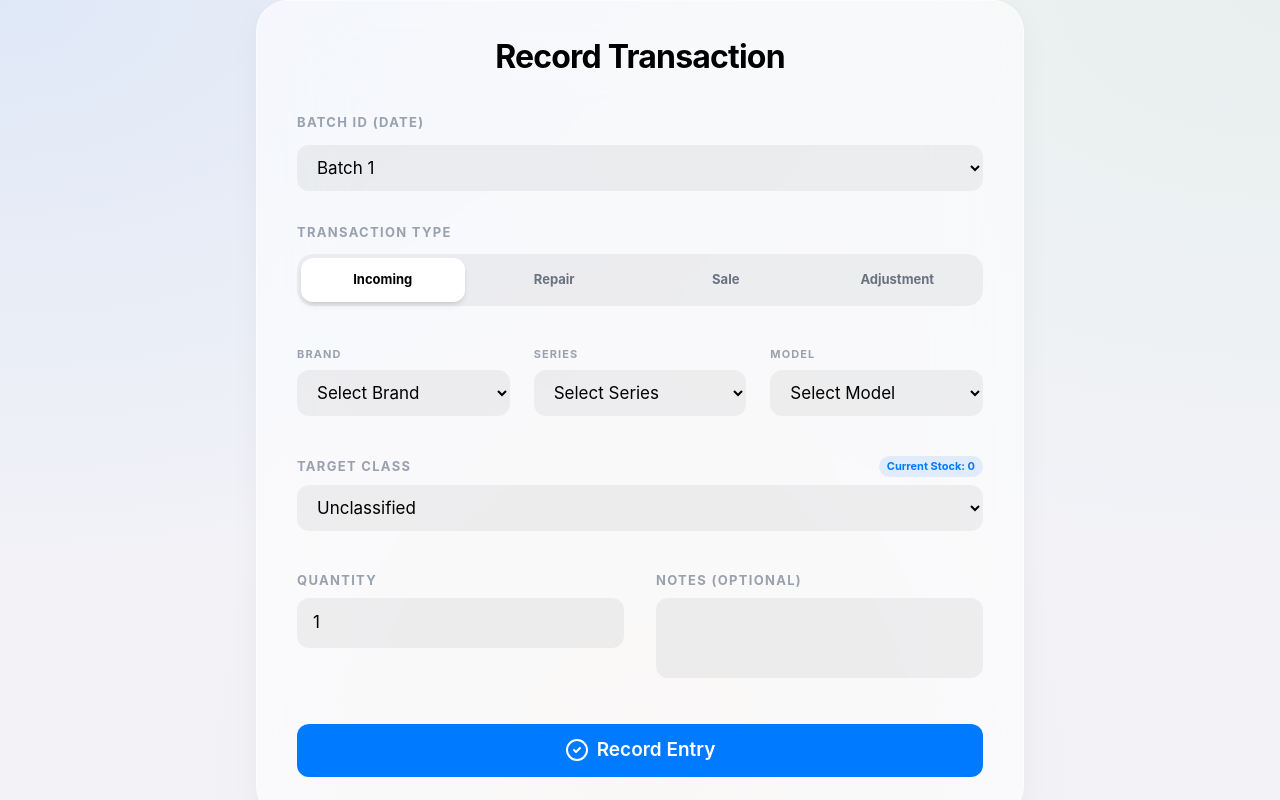
it: AddTransaction Component › changes toClass when txType changes to SALE
The width and height of the screenshot is (1280, 800).
Click the radio button labelled "Sale".
click(726, 280)  # box [644,258,808,302]
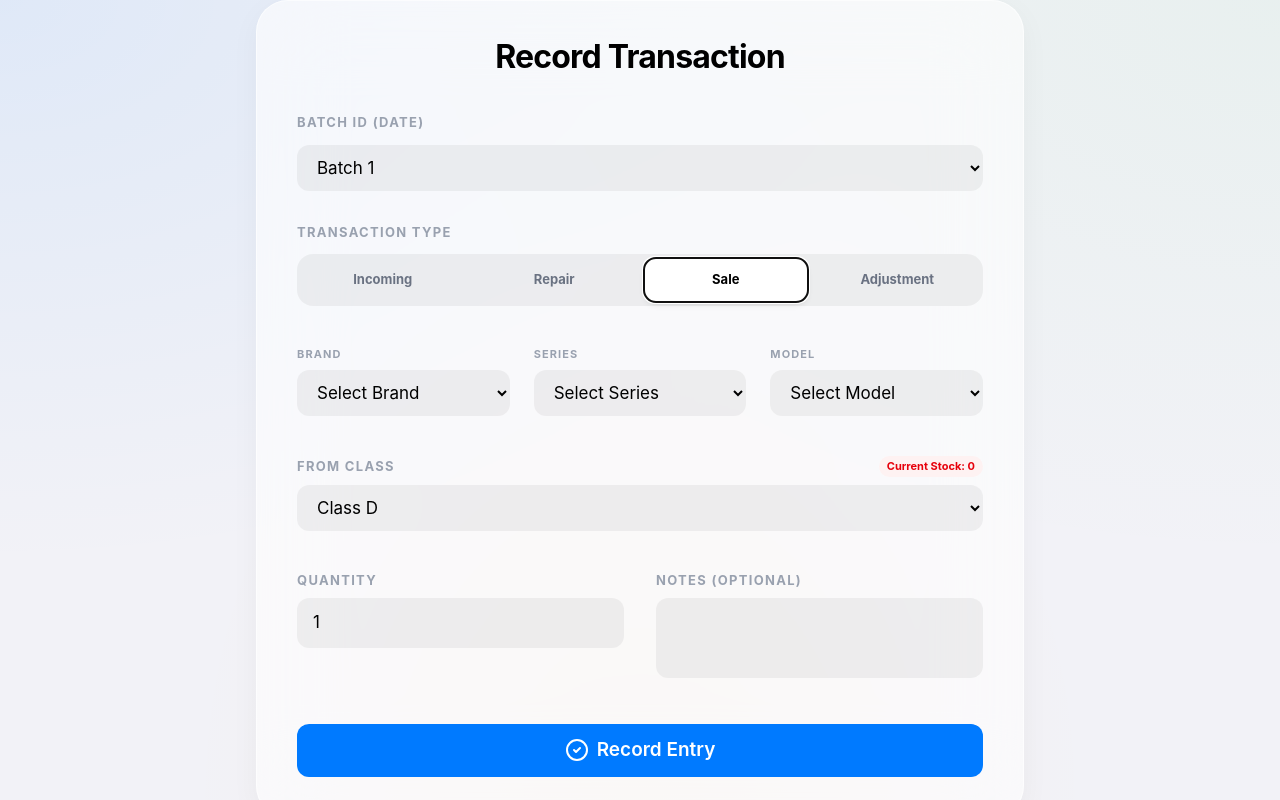
Expected: the label labelled "Target Class" is gone
